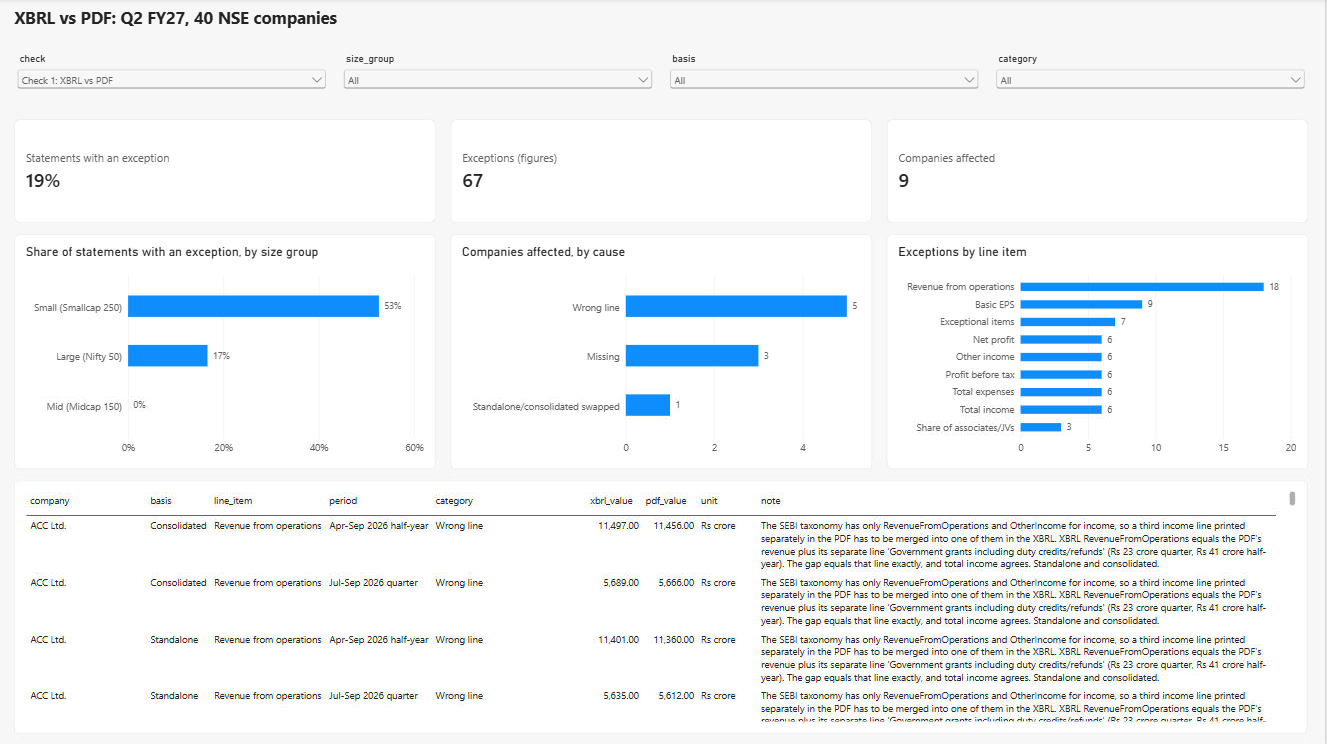

This screenshot's page, from the dashboard's own definition file:
{"tool":"powerbi","page":{"name":"Page 1","canvas":[1920,1080],"ordinal":0},"visuals":[{"type":"cardVisual","fields":{"Data":["exceptions.Share of statements with an exception"]},"box":[24,176,610,150],"z":0},{"type":"cardVisual","fields":{"Data":["exceptions.Exceptions"]},"box":[655,176,610,150],"z":1},{"type":"cardVisual","fields":{"Data":["exceptions.Companies affected"]},"box":[1286,176,610,150],"z":2},{"type":"clusteredBarChart","title":"Share of statements with an exception, by size group","fields":{"Category":["statements.size_group"],"Y":["exceptions.Share of statements with an exception"]},"box":[24,342,610,340],"z":3},{"type":"clusteredBarChart","title":"Companies affected, by cause","fields":{"Category":["exceptions.category"],"Y":["exceptions.Companies affected"]},"box":[655,342,610,340],"z":4},{"type":"clusteredBarChart","title":"Exceptions by line item","fields":{"Category":["exceptions.line_item"],"Y":["exceptions.Exceptions"]},"box":[1286,342,610,340],"z":5},{"type":"tableEx","fields":{"Values":["exceptions.company","exceptions.basis","exceptions.line_item","exceptions.period","exceptions.category","exceptions.xbrl_value","exceptions.pdf_value","exceptions.unit","exceptions.note"]},"box":[24,698,1872,366],"z":6},{"type":"textbox","box":[24,12,1000,56],"z":7},{"type":"slicer","fields":{"Values":["statements.check"]},"box":[24,80,456,80],"z":8},{"type":"slicer","fields":{"Values":["statements.size_group"]},"box":[496,80,456,80],"z":9},{"type":"slicer","fields":{"Values":["statements.basis"]},"box":[968,80,456,80],"z":10},{"type":"slicer","fields":{"Values":["exceptions.category"]},"box":[1440,80,456,80],"z":11}]}

Visuals, with their boxes in screenshot pixels (x1, y1, x2, y2), scaled from the page's 1920x1080 canvas onto the 1327x744 screenshot:
cardVisual - exceptions.Share of statements with an exception: {"x1": 17, "y1": 121, "x2": 438, "y2": 225}
cardVisual - exceptions.Exceptions: {"x1": 453, "y1": 121, "x2": 874, "y2": 225}
cardVisual - exceptions.Companies affected: {"x1": 889, "y1": 121, "x2": 1310, "y2": 225}
"Share of statements with an exception, by size group" clusteredBarChart: {"x1": 17, "y1": 236, "x2": 438, "y2": 470}
"Companies affected, by cause" clusteredBarChart: {"x1": 453, "y1": 236, "x2": 874, "y2": 470}
"Exceptions by line item" clusteredBarChart: {"x1": 889, "y1": 236, "x2": 1310, "y2": 470}
tableEx - exceptions.company x exceptions.basis: {"x1": 17, "y1": 481, "x2": 1310, "y2": 733}
textbox: {"x1": 17, "y1": 8, "x2": 708, "y2": 47}
slicer - statements.check: {"x1": 17, "y1": 55, "x2": 332, "y2": 110}
slicer - statements.size_group: {"x1": 343, "y1": 55, "x2": 658, "y2": 110}
slicer - statements.basis: {"x1": 669, "y1": 55, "x2": 984, "y2": 110}
slicer - exceptions.category: {"x1": 995, "y1": 55, "x2": 1310, "y2": 110}
